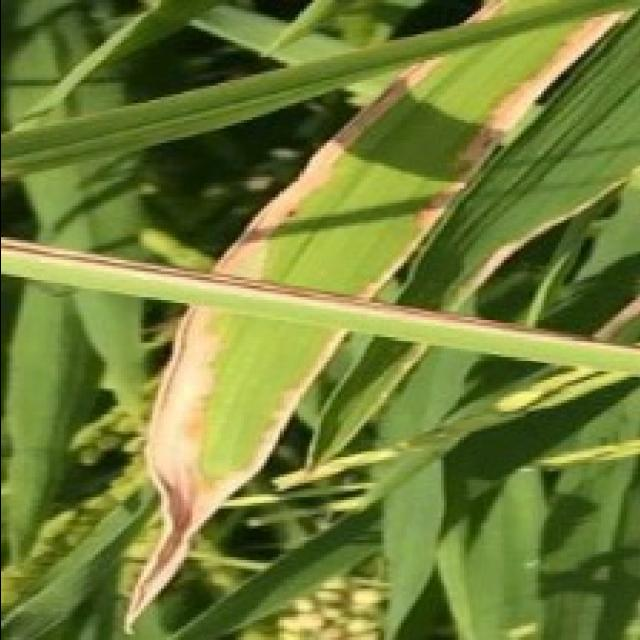Unhealthy: (0, 238, 640, 355), (123, 309, 347, 634), (212, 56, 446, 272), (410, 6, 623, 233), (470, 176, 629, 293), (355, 238, 423, 297), (592, 295, 640, 341), (462, 0, 506, 25)
